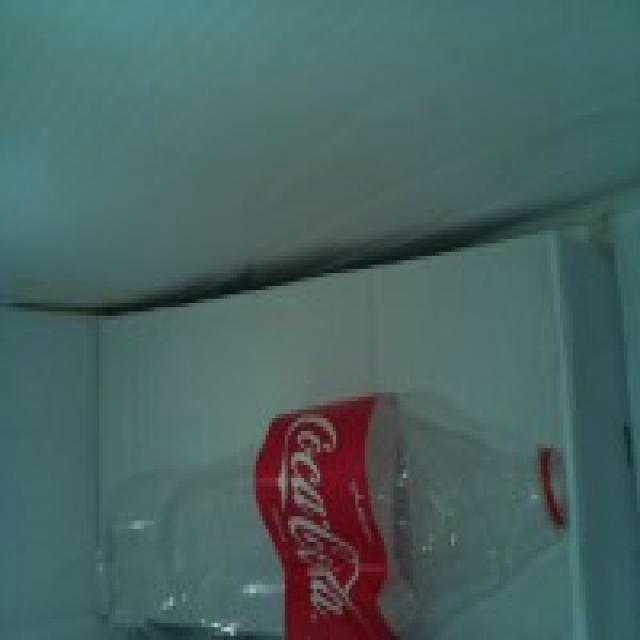bottle: (96, 392, 567, 640)
